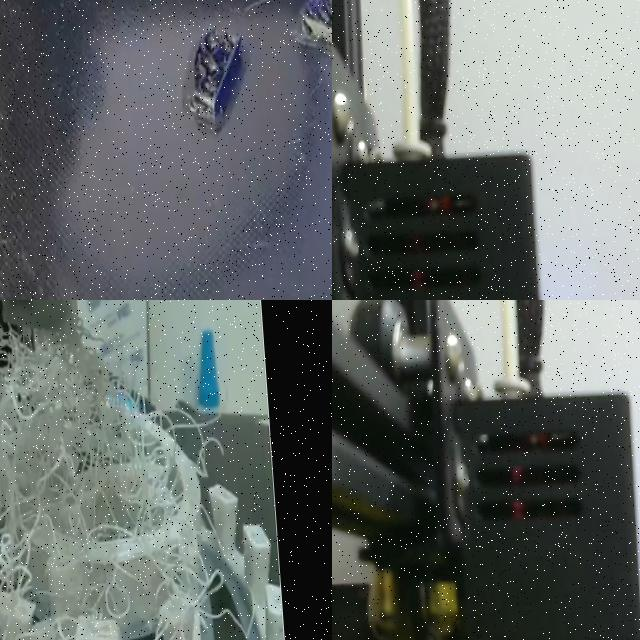spaghetti: (0, 300, 147, 640)
